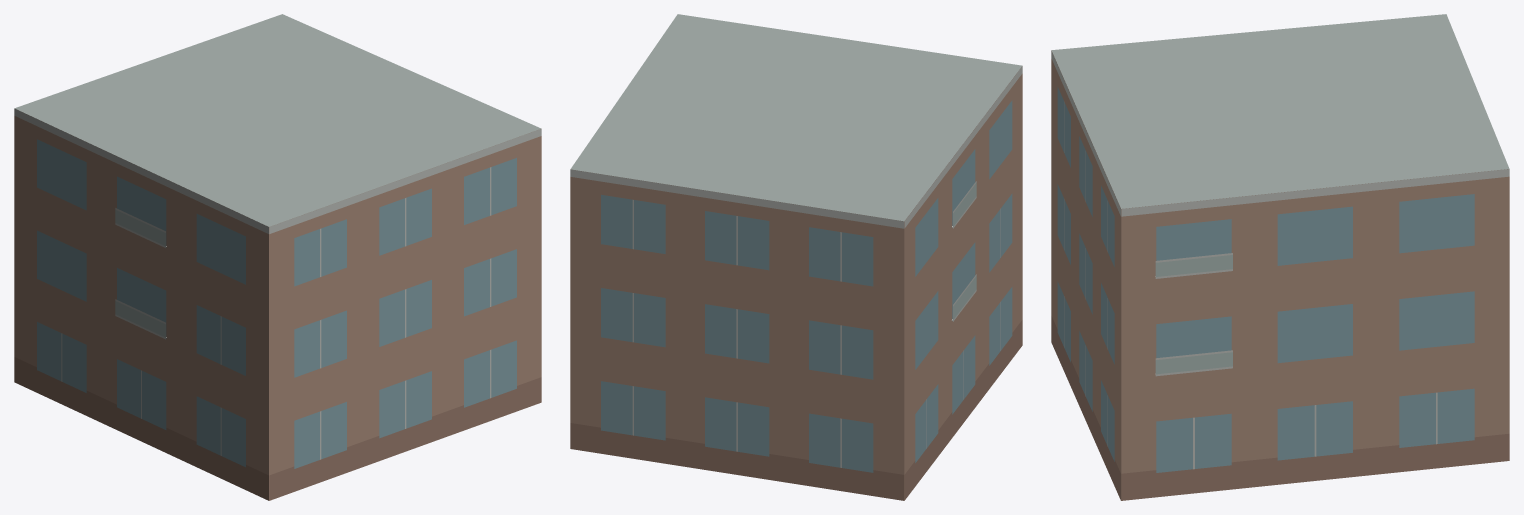
File: residential-d4bbb0f1-c734-4faf-99c7-9a007112f0cb.glb
The picture shows the model from 3 angles, left to right: view 1: azimuth 30°, elevation 25°; view 2: azimuth 150°, elevation 25°; view 3: azimuth 270°, elevation 25°; orthographic projection. The views are drawn at different scales.
Visible parts, largest first — view 1: residential-d4bbb0f1-c734-4faf-99c7-9a007112f0cb.tmp; view 2: residential-d4bbb0f1-c734-4faf-99c7-9a007112f0cb.tmp; view 3: residential-d4bbb0f1-c734-4faf-99c7-9a007112f0cb.tmp.
Part boxes in pixels (bbox=[...]): residential-d4bbb0f1-c734-4faf-99c7-9a007112f0cb.tmp: bbox=[14, 14, 541, 500]; residential-d4bbb0f1-c734-4faf-99c7-9a007112f0cb.tmp: bbox=[570, 14, 1022, 500]; residential-d4bbb0f1-c734-4faf-99c7-9a007112f0cb.tmp: bbox=[1051, 14, 1509, 500].
Bounding box in the file's own units: 13.11 × 9.15 × 13.03.
